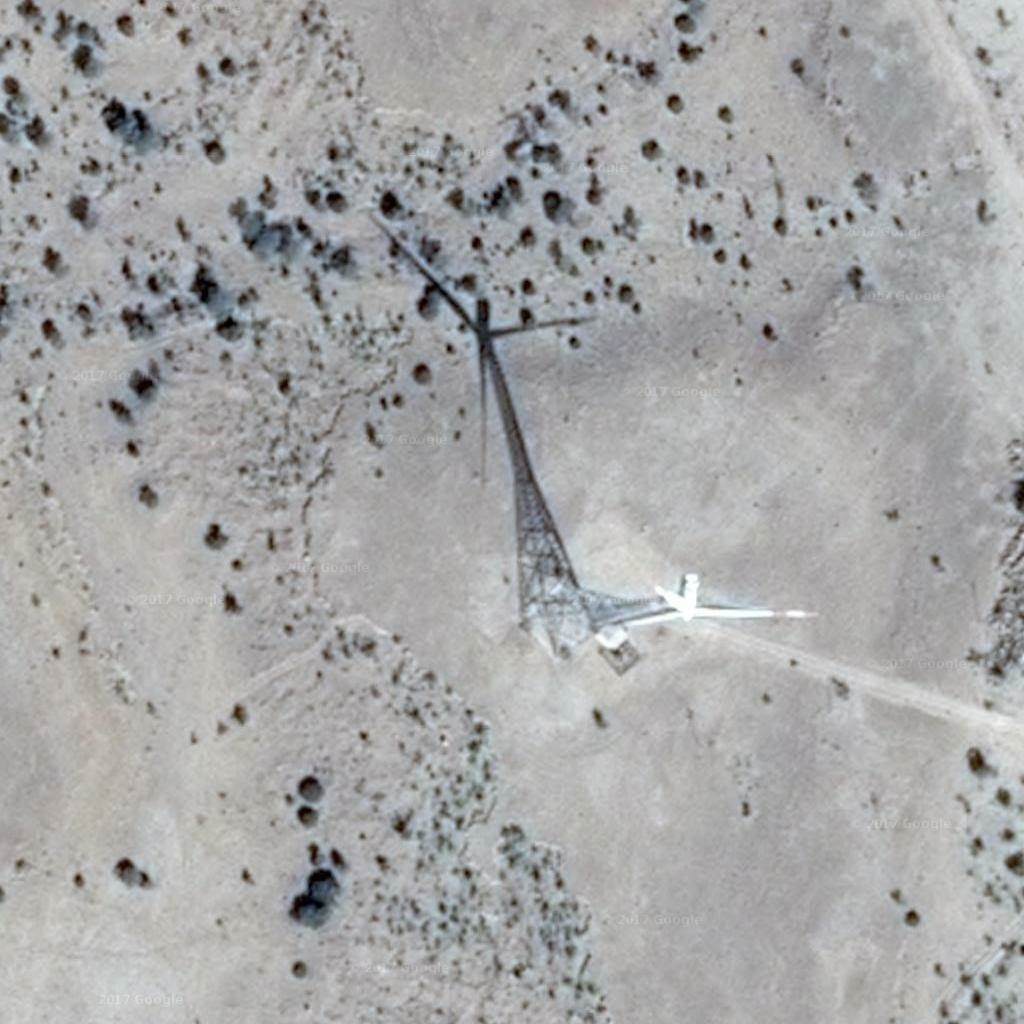Windmill: (372, 218, 611, 630)
